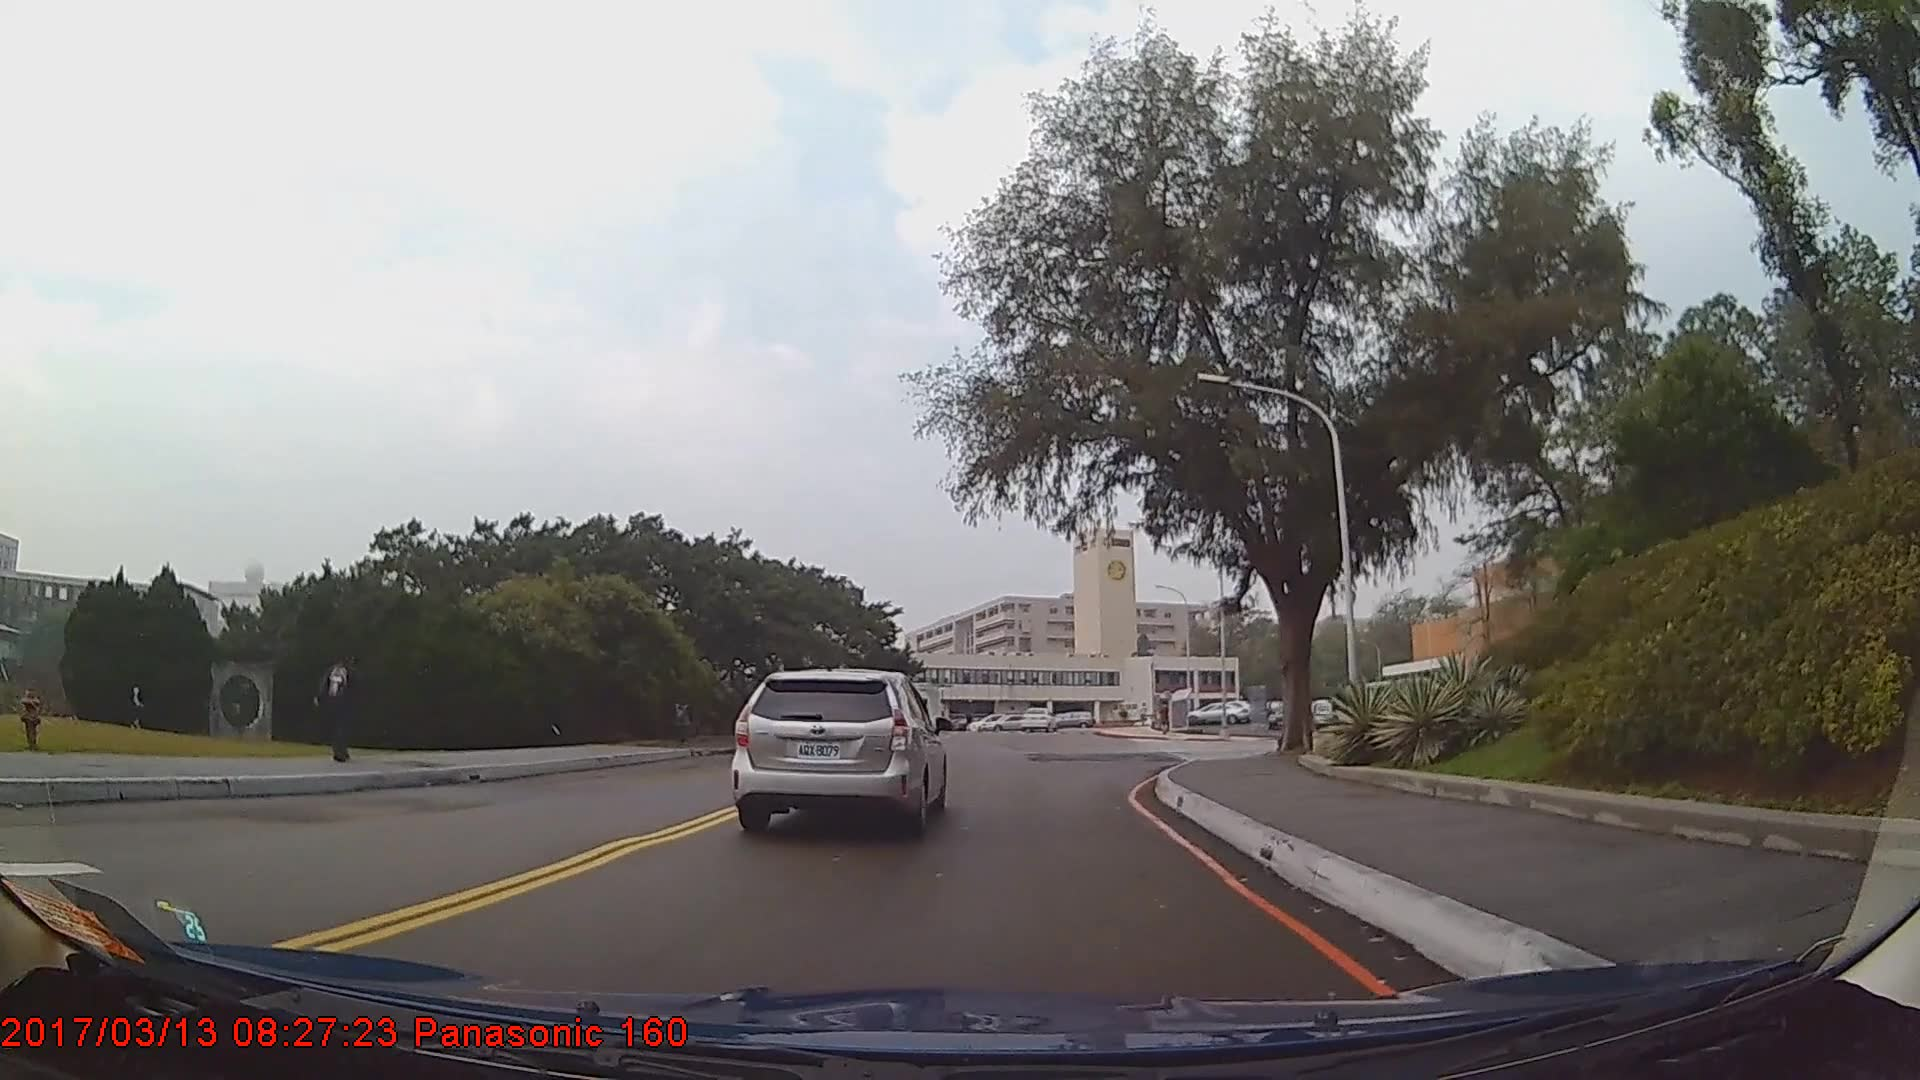pedestrian: (313, 645, 365, 762)
vehicle: (731, 666, 947, 837), (1185, 702, 1245, 726), (978, 710, 1032, 735), (1018, 705, 1060, 732), (1309, 701, 1337, 728), (1265, 705, 1290, 729)
